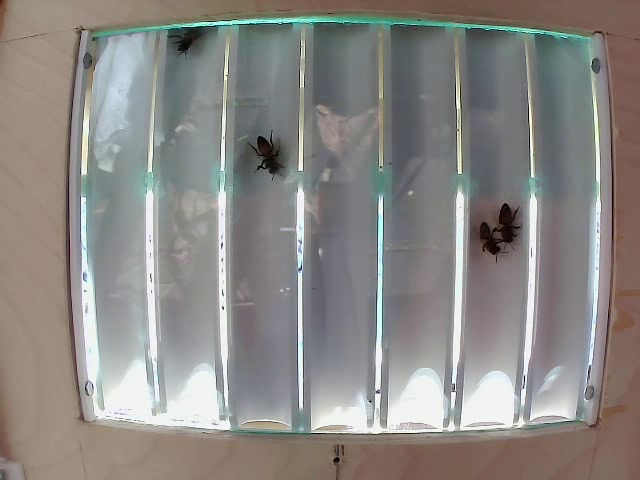bee: (174, 17, 219, 66), (248, 131, 289, 179), (498, 203, 518, 244), (477, 226, 497, 265)
